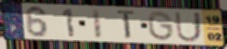1: (62, 8, 77, 39)
6: (25, 5, 48, 39)
G: (146, 10, 176, 42)
I: (91, 8, 104, 40)
T: (116, 9, 138, 41)
U: (173, 11, 203, 44)
